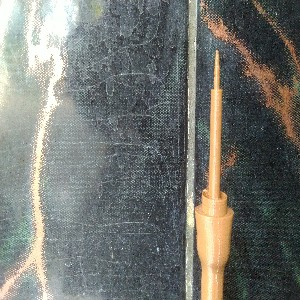solder: (194, 49, 235, 300)
